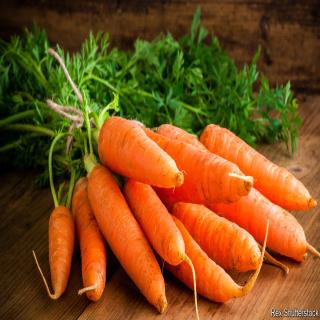Wortel: (87, 163, 170, 317), (198, 125, 320, 216), (97, 115, 188, 192), (121, 176, 189, 273), (47, 203, 79, 311)
